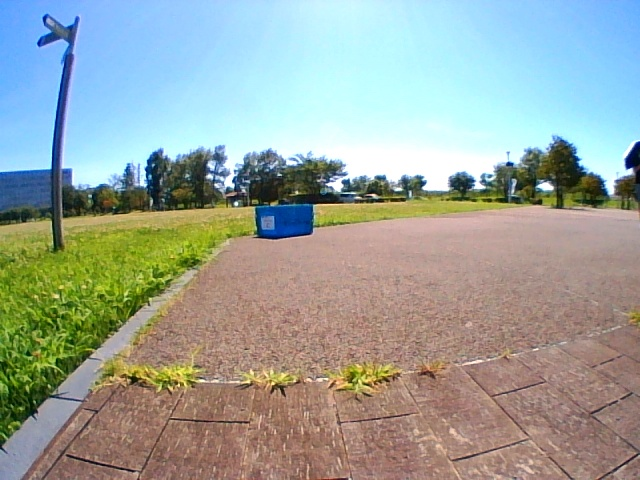blue_box: (256, 204, 313, 238)
tag: (262, 216, 275, 229)
